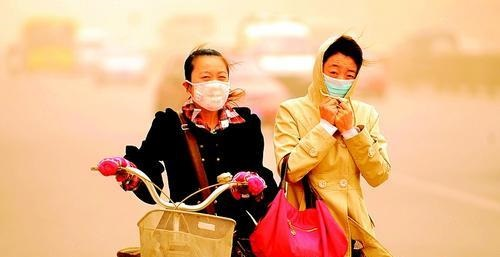face_mask: (192, 57, 230, 110), (324, 54, 359, 105)
